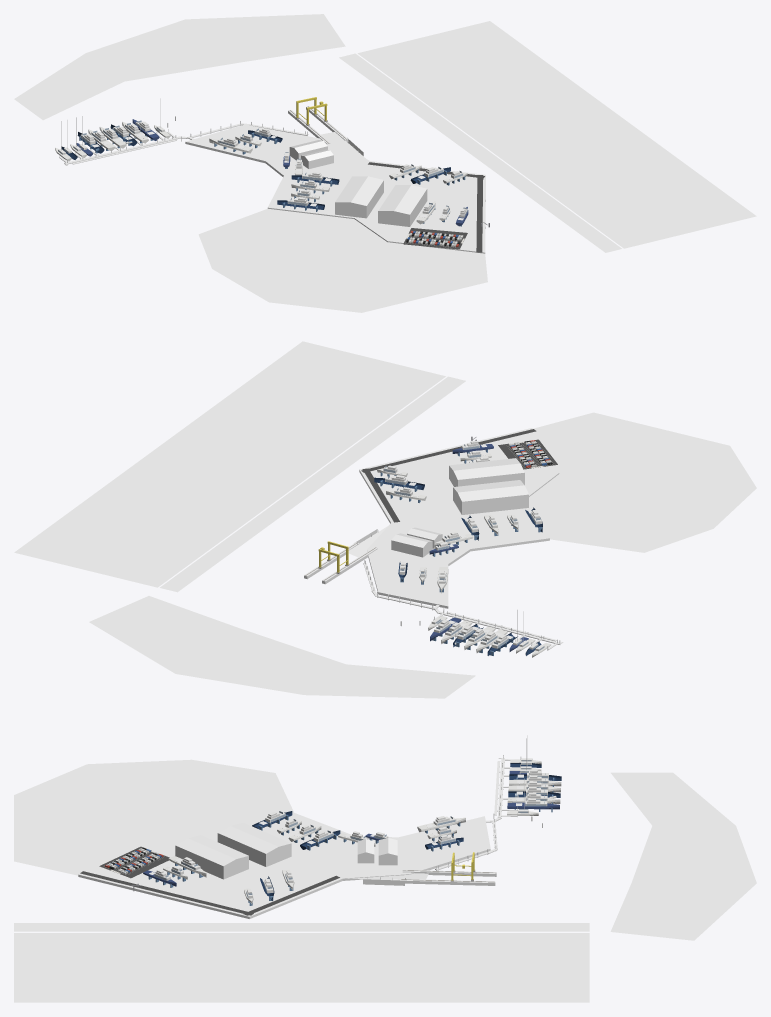
The model's file is tipner.glb.
3 renders of one model, top to bottom at view 1: azimuth 30°, elevation 25°; view 2: azimuth 150°, elevation 25°; view 3: azimuth 270°, elevation 25°, orthographic. The views are drawn at different scales.
Visible parts, largest first — view 1: EL, SL, Horsea, Ground, M275, S11_rf, S12_rf, S12, S11, M275c, D19_tarmac; view 2: EL, SL, Horsea, Ground, M275, S11_rf, S12_rf, S11, M275c, S12; view 3: EL, SL, Horsea, Ground, M275, S11_rf, S12_rf, S12, S11, SvcRoad0, D19_tarmac, M275c (+1 smaller).
Boxes of the visible parts, <box> form: EL: <box>357,21,756,248</box>; SL: <box>198,208,487,312</box>; Horsea: <box>14,14,345,120</box>; Ground: <box>185,124,485,253</box>; M275: <box>339,53,621,252</box>; S11_rf: <box>335,176,383,205</box>; S12_rf: <box>378,185,426,214</box>; S12: <box>378,189,427,226</box>; S11: <box>335,180,383,218</box>; M275c: <box>346,55,614,250</box>; D19_tarmac: <box>403,228,467,249</box>; EL: <box>14,341,445,587</box>; SL: <box>529,412,756,552</box>; Horsea: <box>89,596,475,698</box>; Ground: <box>359,428,559,608</box>; M275: <box>160,376,465,592</box>; S11_rf: <box>453,480,528,501</box>; S12_rf: <box>449,458,524,479</box>; S11: <box>453,487,528,514</box>; M275c: <box>168,378,457,590</box>; S12: <box>449,466,524,486</box>; EL: <box>14,933,589,1002</box>; SL: <box>14,759,294,875</box>; Horsea: <box>610,772,756,940</box>; Ground: <box>78,813,490,918</box>; M275: <box>14,923,589,931</box>; S11_rf: <box>218,822,290,853</box>; S12_rf: <box>175,835,248,866</box>; S12: <box>175,845,248,879</box>; S11: <box>217,833,291,866</box>; SvcRoad0: <box>80,871,253,915</box>; D19_tarmac: <box>99,846,169,878</box>; M275c: <box>14,927,589,927</box>.
Size of what is drawn, in the model's own units: 554 by 41.58 by 710.
